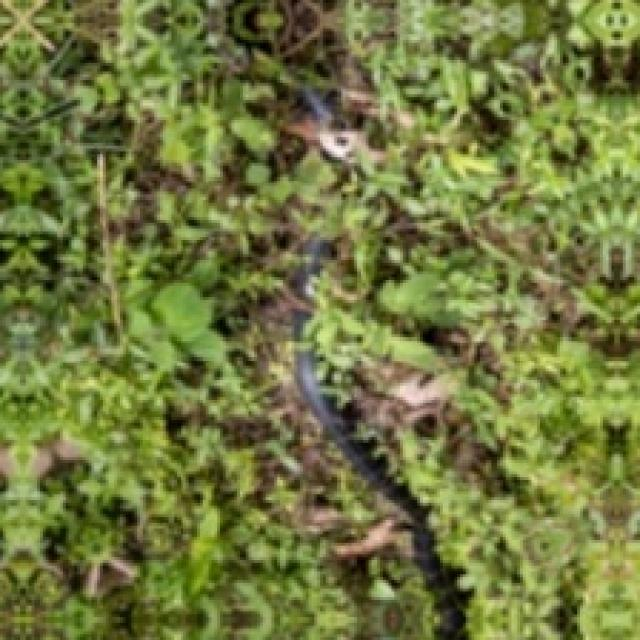king cobra: (291, 237, 463, 637)
